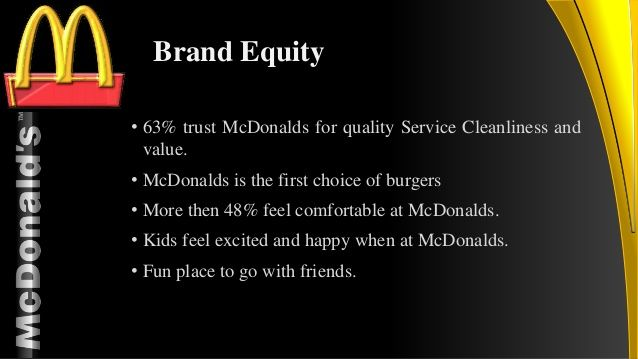mcdonalds: (12, 0, 113, 88), (16, 0, 113, 87)
